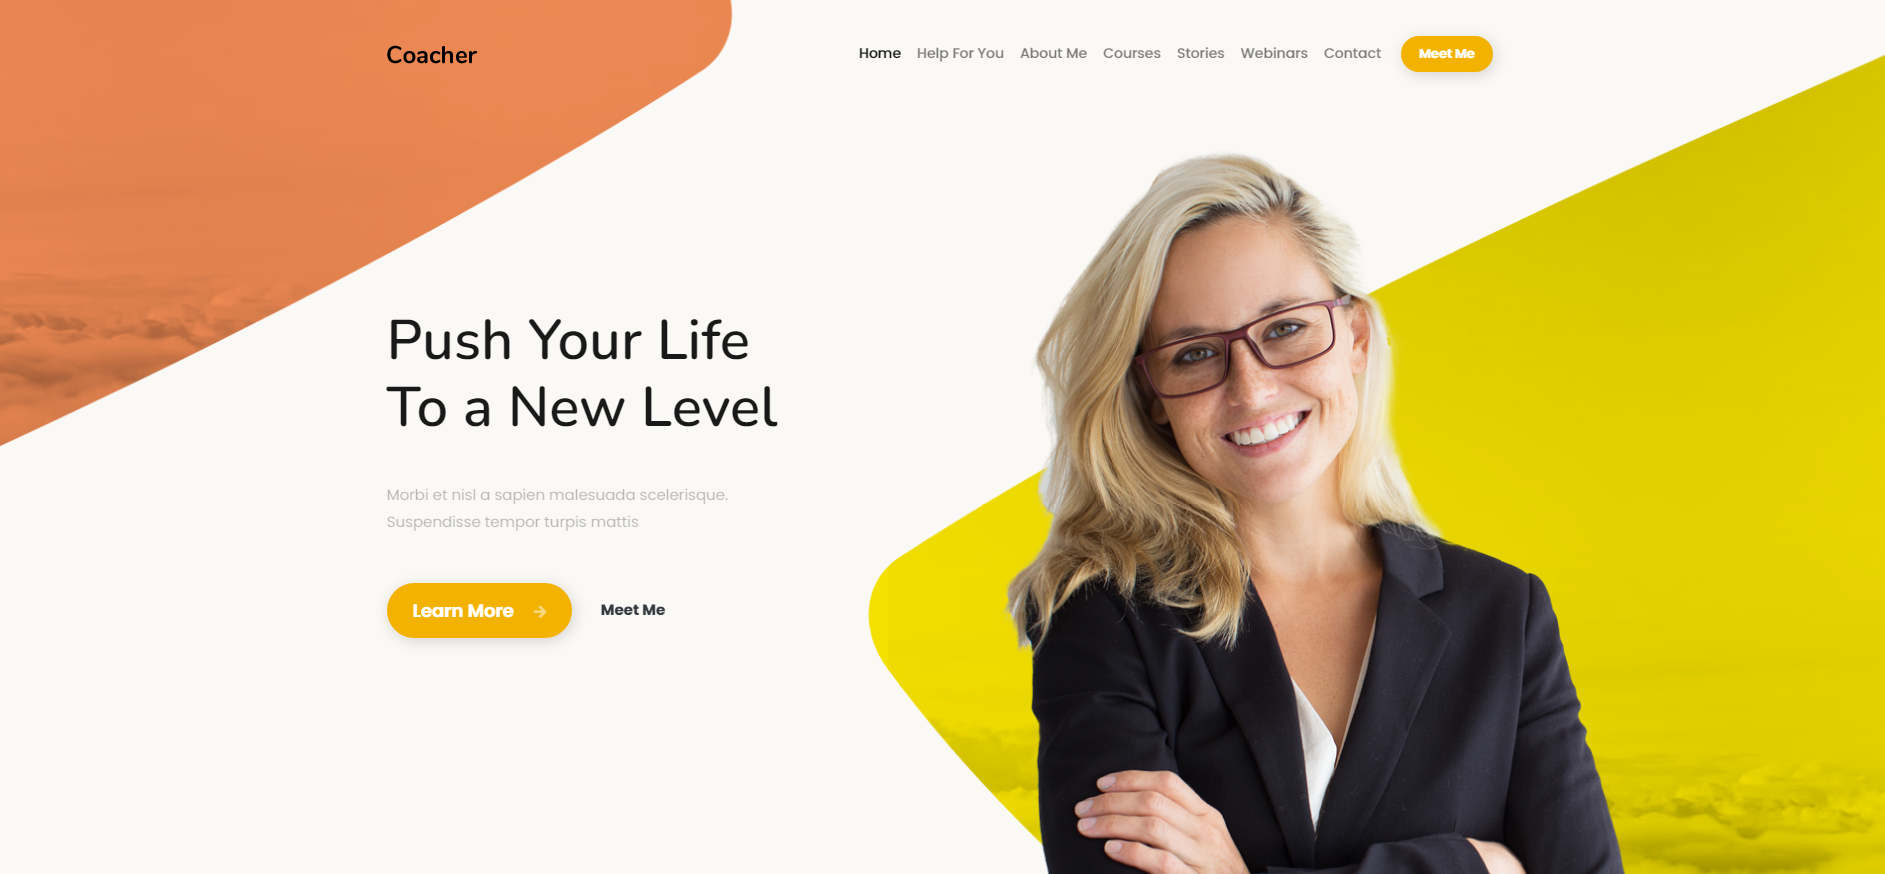menu-bar: (43, 20, 1843, 176)
